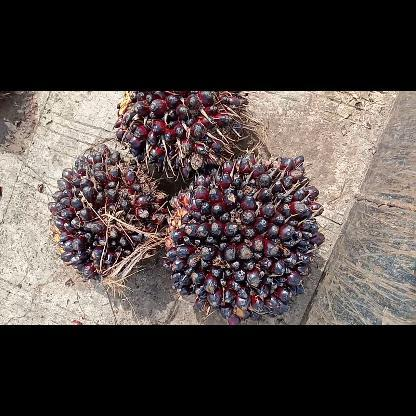TBS mentah: (164, 150, 328, 324), (43, 142, 171, 284), (113, 90, 253, 180)
